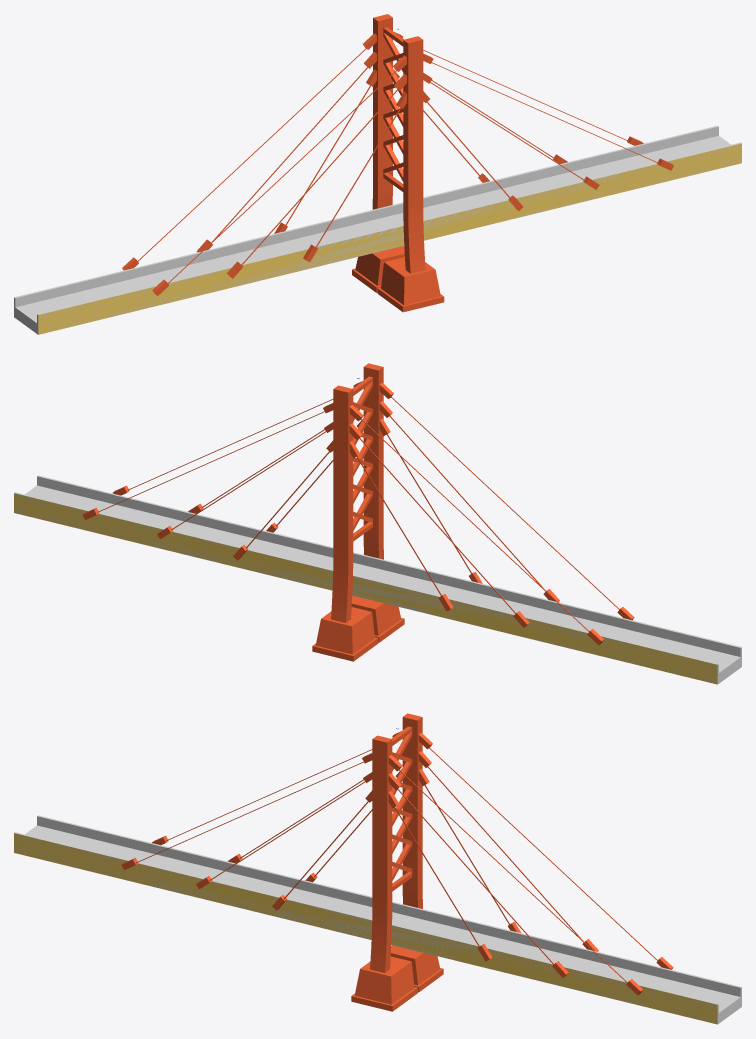
Rendered from та це жорстко.dae.
3 views of the same model, one above another, from view 1: azimuth 30°, elevation 25°; view 2: azimuth 150°, elevation 25°; view 3: azimuth 330°, elevation 25° (orthographic).
Visible parts, largest first — view 1: most (×8); view 2: most (×7); view 3: most (×8).
Boxes of the visible parts, left/top/right/bottom form: most (×8): left=14, top=14, right=741, bottom=334; most (×7): left=14, top=363, right=741, bottom=684; most (×8): left=14, top=713, right=741, bottom=1024.
Bounding box in the file's own units: 2328 × 293 × 822.
